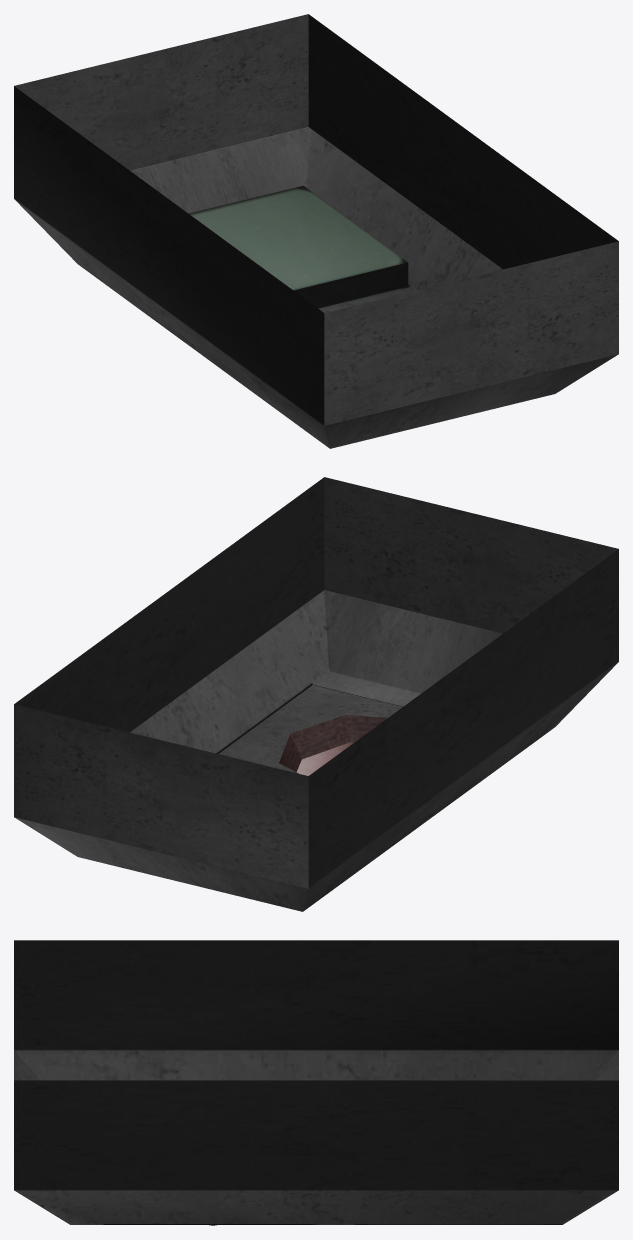
Rendered from FUCKYOUEUGENE.obj.
3 renders of one model, top to bottom at view 1: azimuth 30°, elevation 25°; view 2: azimuth 150°, elevation 25°; view 3: azimuth 270°, elevation 25°, orthographic. The views are drawn at different scales.
Parts seen in each view (by area): view 1: Button.x_Mesh; view 2: Button.x_Mesh; view 3: Button.x_Mesh.
Boxes of the visible parts, x1,y1,x2,y2 form: Button.x_Mesh: (14,14,618,448); Button.x_Mesh: (14,477,618,911); Button.x_Mesh: (14,940,618,1225).
Size of the model in its own units: 2.76 by 1.69 by 5.04.
